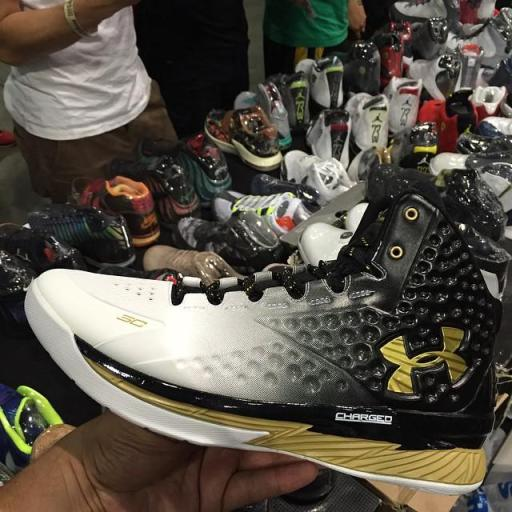Under Armour: (376, 320, 473, 399)
